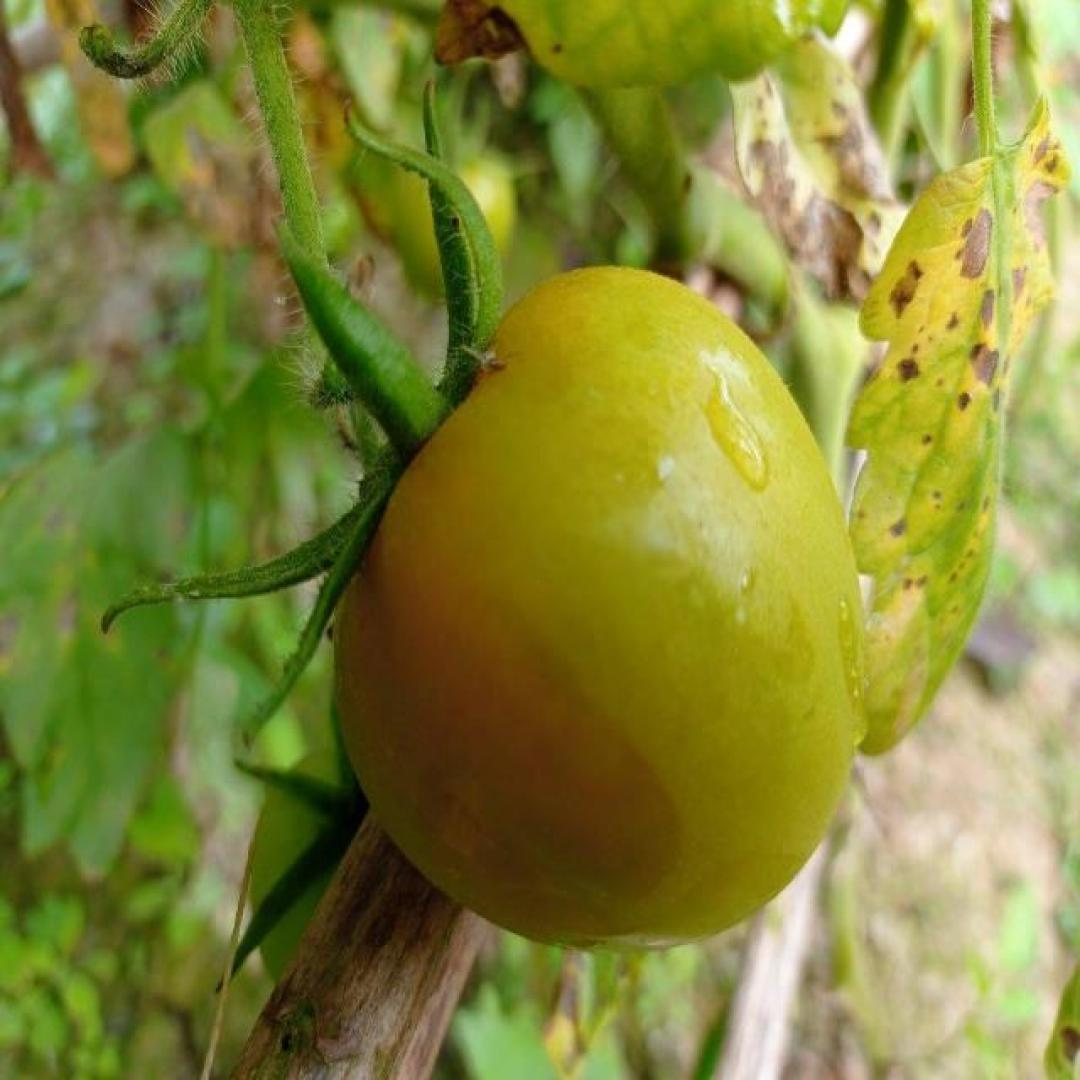setengah_matang: (329, 255, 871, 958)
